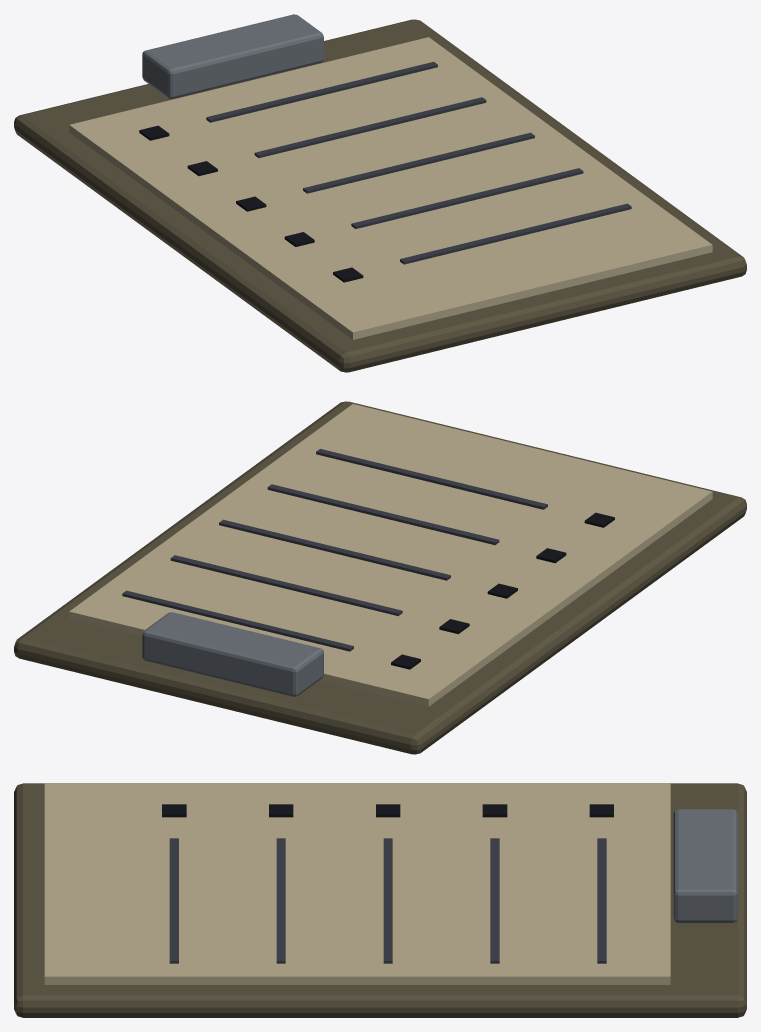
Rendered from paperwork_clipboard.glb.
3 views of the same model, one above another, from view 1: azimuth 30°, elevation 25°; view 2: azimuth 150°, elevation 25°; view 3: azimuth 270°, elevation 25° (orthographic). The views are drawn at different scales.
Visible parts, largest first — view 1: paperwork_clipboard; view 2: paperwork_clipboard; view 3: paperwork_clipboard.
Part boxes in pixels (bbox=[...]): paperwork_clipboard: bbox=[14, 14, 746, 372]; paperwork_clipboard: bbox=[14, 401, 746, 754]; paperwork_clipboard: bbox=[14, 783, 746, 1017].
Size of the model in its own units: 0.34 by 0.045 by 0.48.
